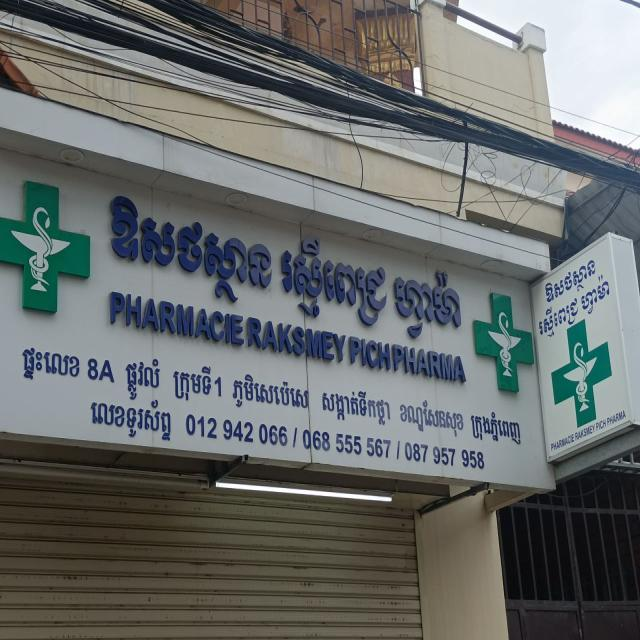1: (535, 272, 616, 348)
17: (121, 352, 522, 446)
2: (104, 178, 470, 349)
Yolov11kh: (88, 391, 182, 446), (540, 251, 604, 305), (16, 338, 86, 387)
